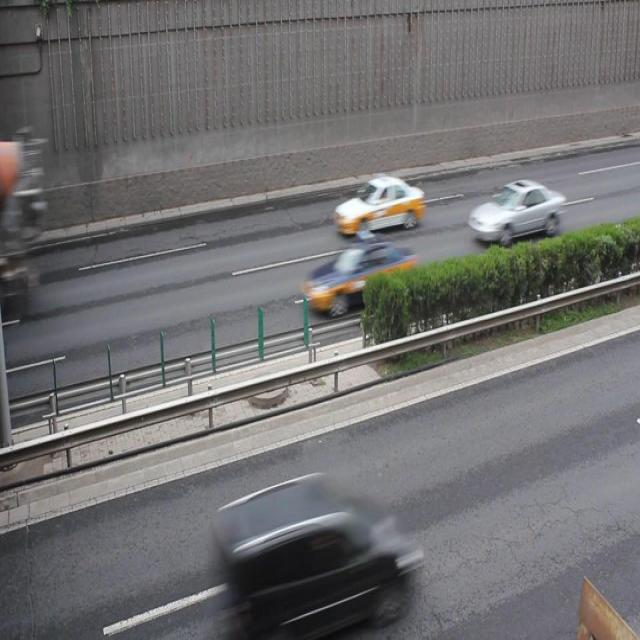car: (215, 475, 411, 640), (302, 237, 418, 314), (468, 179, 563, 244), (334, 174, 423, 233)
